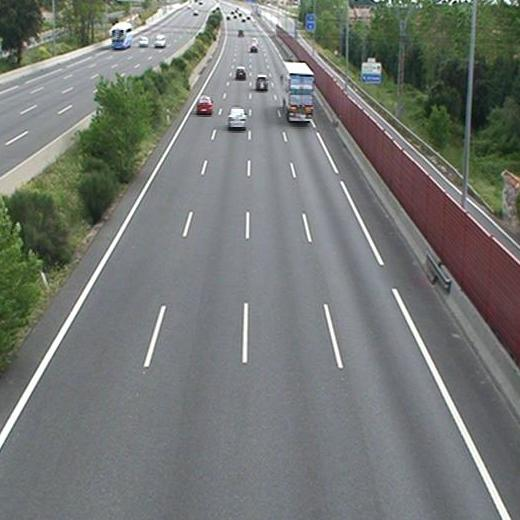car: (227, 108, 247, 127), (196, 97, 213, 113), (255, 76, 269, 91), (235, 67, 246, 78), (249, 44, 259, 53)
truck: (283, 60, 313, 120)
